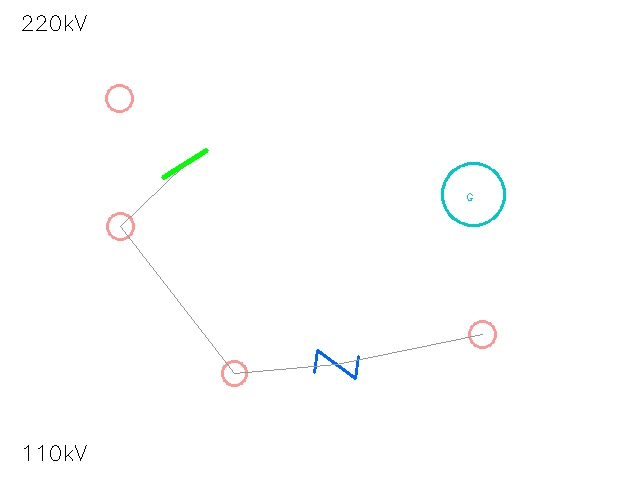busbar: (154, 133, 216, 195)
circuit_breaker: (313, 341, 359, 387)
current_transformer: (210, 349, 258, 397)
feeder_terminal: (455, 307, 509, 361)
fuse: (93, 199, 147, 253)
generator: (442, 163, 504, 225)
load_break_switch: (92, 71, 146, 125)
